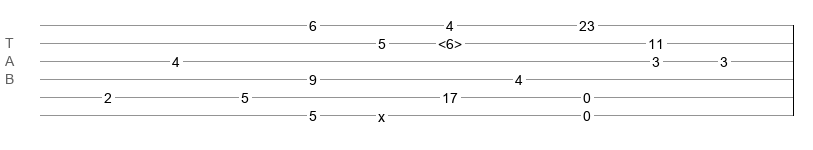0: (583, 108, 591, 118), (583, 90, 591, 100)
11: (648, 36, 664, 46)
17: (442, 90, 458, 100)
2: (104, 90, 112, 100)
23: (579, 18, 595, 28)
3: (652, 54, 660, 64), (720, 54, 728, 64)
4: (172, 54, 180, 64), (446, 18, 454, 28), (515, 72, 523, 82)
5: (241, 90, 249, 100), (309, 108, 317, 118), (378, 36, 386, 46)
6: (309, 18, 317, 28)
9: (309, 72, 317, 82)
harmonic: (438, 36, 462, 46)
x: (378, 109, 385, 117)
